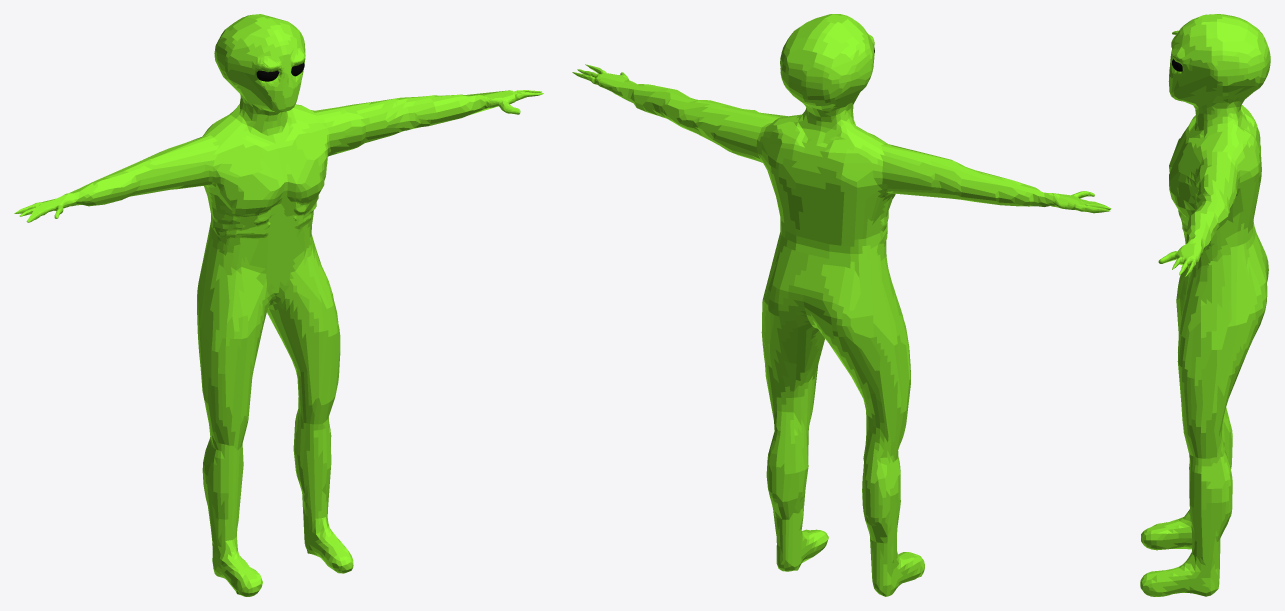
File: marciano.fbx
3 renders of one model, left to right at view 1: azimuth 30°, elevation 25°; view 2: azimuth 150°, elevation 25°; view 3: azimuth 270°, elevation 25°, orthographic. The views are drawn at different scales.
Visible parts, largest first — view 1: Icosphere; view 2: Icosphere; view 3: Icosphere.
Boxes of the visible parts, <box> form: Icosphere: <box>14,14,543,596</box>; Icosphere: <box>572,14,1111,596</box>; Icosphere: <box>1140,14,1270,596</box>.
Bounding box in the file's own units: 198 × 197 × 41.93.
Materials: 1 (1 with a texture image).
